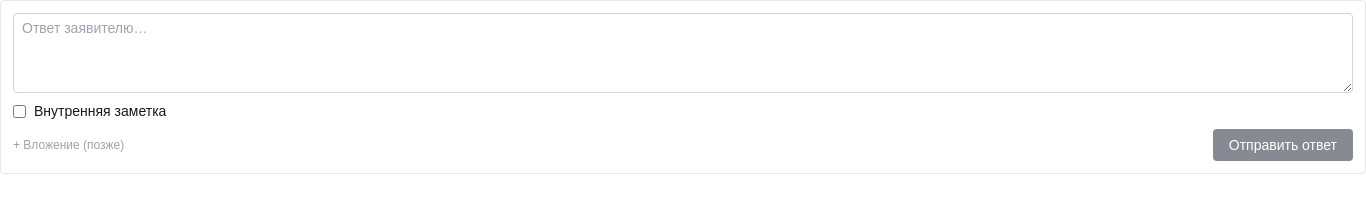
MessageComposer — отправка › тоггл internal показывает предупреждение «не видно заявителю»
Check: the text "Не видно заявителю" is not shown
Step 1. Click the checkbox labelled "Внутренняя заметка" → x=20, y=111, box [13,104,26,118]
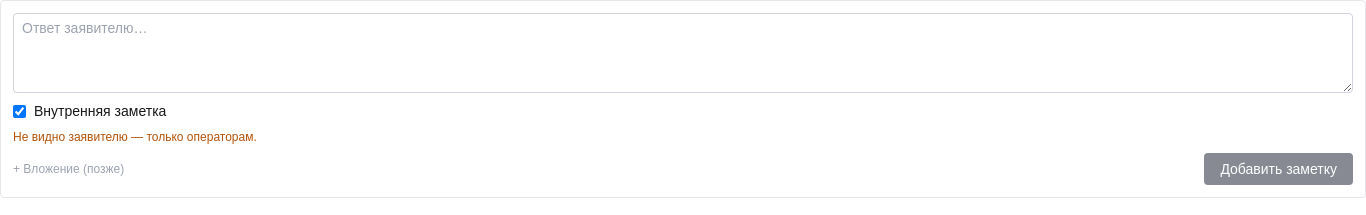
Check: the text "Не видно заявителю — только операторам." is shown, box [13,130,257,144]
